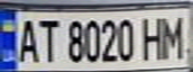0: (115, 15, 139, 63), (81, 16, 103, 64)
2: (100, 16, 121, 64)
8: (63, 16, 84, 64)
A: (12, 16, 42, 64)
H: (136, 14, 166, 61)
M: (157, 11, 190, 60)
T: (33, 16, 60, 64)
